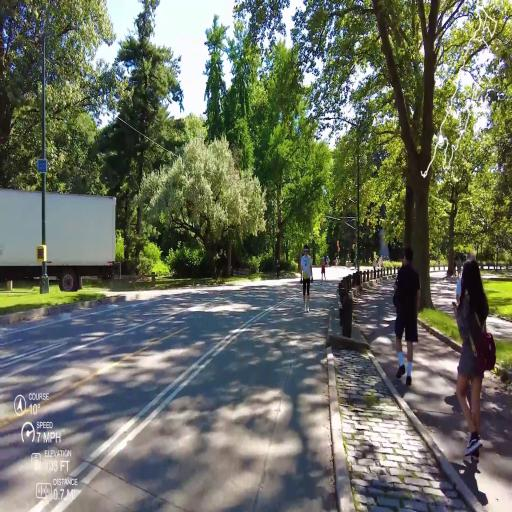Street_Light: (314, 107, 364, 286)
